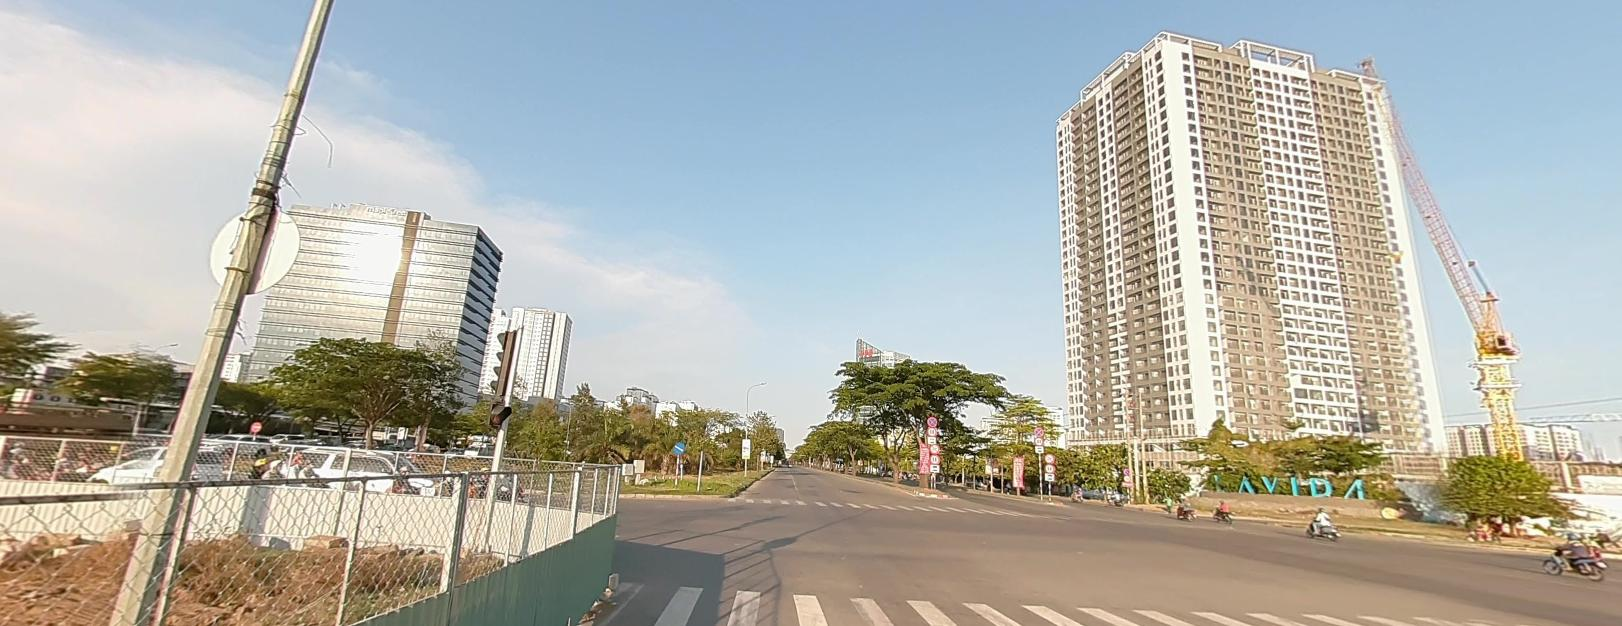Cam con lai: (1044, 452, 1054, 463), (930, 443, 940, 452), (1123, 474, 1129, 480)
Cam dung va do: (927, 415, 937, 425), (1034, 426, 1043, 435), (1123, 468, 1130, 474)
Cam nguoc chieu: (250, 420, 261, 430)
Gioi han toc do: (930, 453, 940, 463), (927, 426, 937, 435), (1044, 463, 1054, 471), (1034, 436, 1042, 444)
Hieu lenh: (674, 441, 685, 452)
